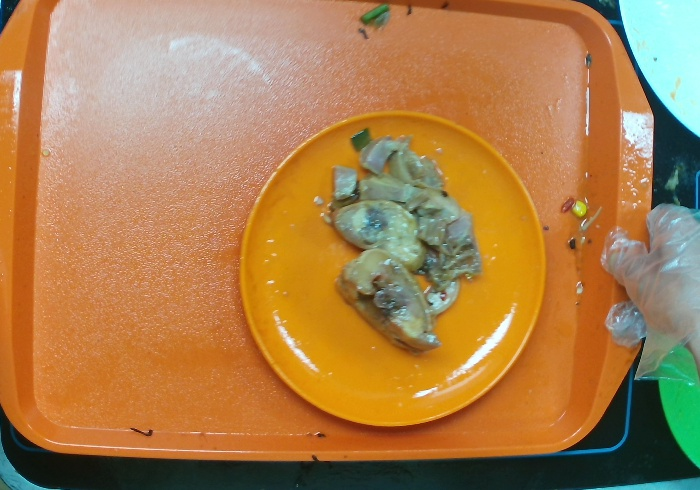HZYJPL-Ju_Huang_Yuan_Pan: (231, 106, 552, 432)
